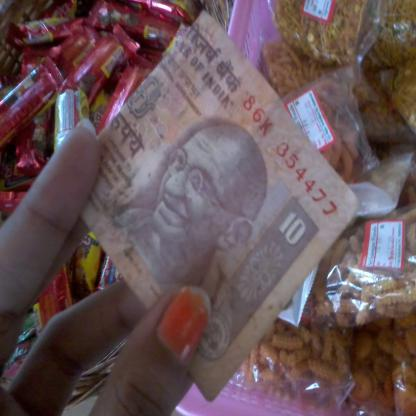Old10Front: (81, 9, 357, 404)
